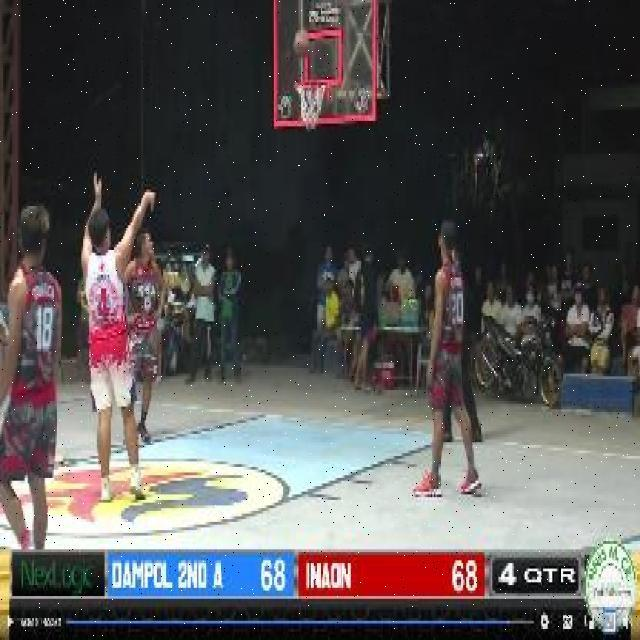ball: (290, 25, 312, 63)
hoop: (294, 79, 327, 91)
